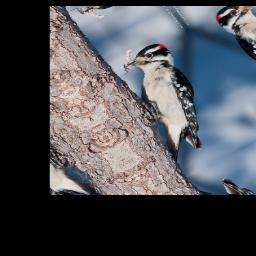Woodpecker: (104, 39, 235, 161)
